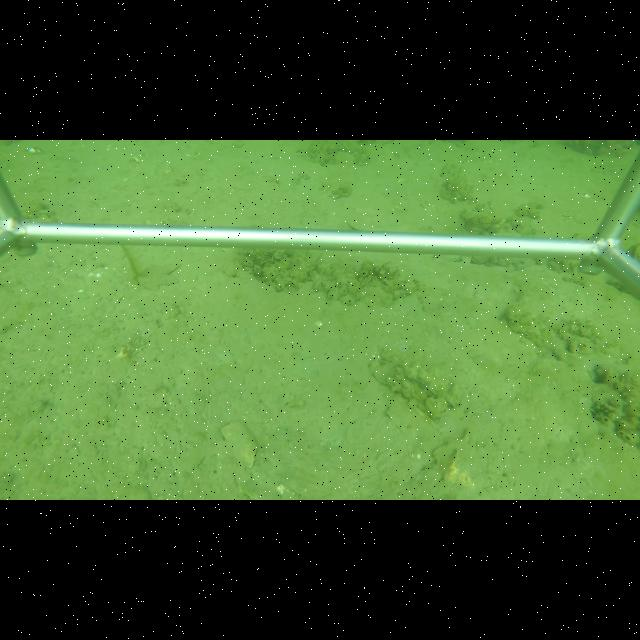Oyster-Closed: (401, 372, 459, 413)
